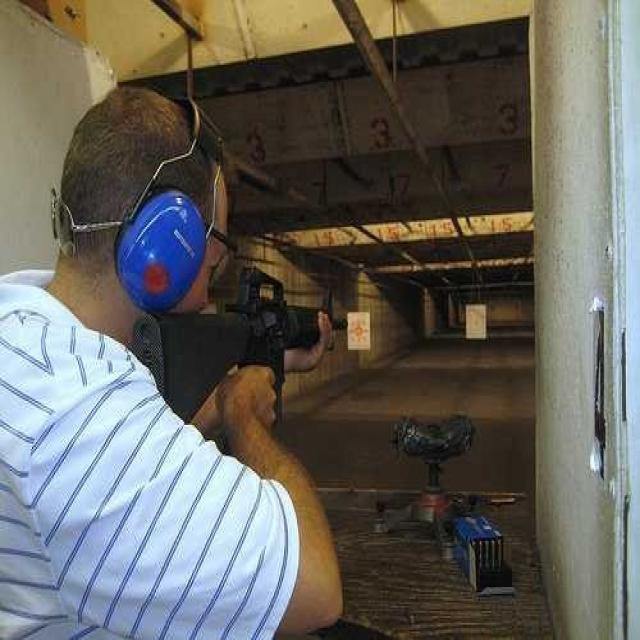Rifle: (118, 274, 349, 427)
